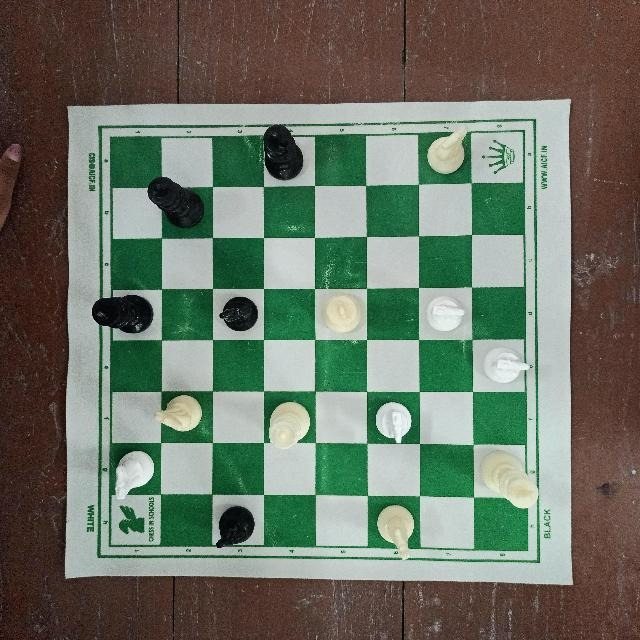black-king: (141, 170, 204, 231), (91, 294, 161, 340), (259, 121, 304, 186)
black-knight: (209, 499, 261, 555), (214, 288, 262, 339)
white-king: (477, 451, 541, 513), (315, 286, 367, 342)
white-knight: (370, 498, 417, 565), (108, 447, 158, 505), (424, 121, 473, 176), (369, 392, 418, 443), (159, 392, 211, 440), (477, 345, 531, 390), (421, 293, 469, 336)
white-queen: (264, 399, 312, 457)
